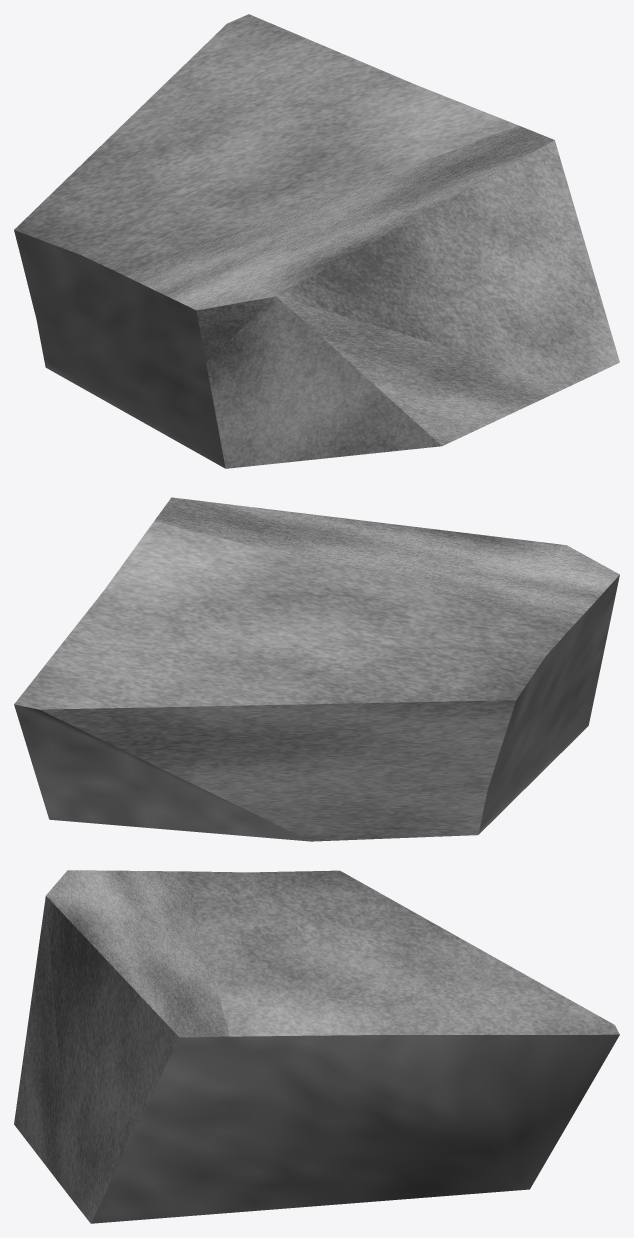
File: leg_4_cell_009.fbx
3 renders of one model, top to bottom at view 1: azimuth 30°, elevation 25°; view 2: azimuth 150°, elevation 25°; view 3: azimuth 270°, elevation 25°, orthographic. The views are drawn at different scales.
Parts seen in each view (by area): view 1: leg_4_cell.009; view 2: leg_4_cell.009; view 3: leg_4_cell.009.
Boxes of the visible parts, x1,y1,x2,y2 form: leg_4_cell.009: (14, 14, 619, 468); leg_4_cell.009: (14, 497, 619, 841); leg_4_cell.009: (14, 870, 619, 1223).
Bounding box in the file's own units: 19.1 × 7.42 × 22.85.
